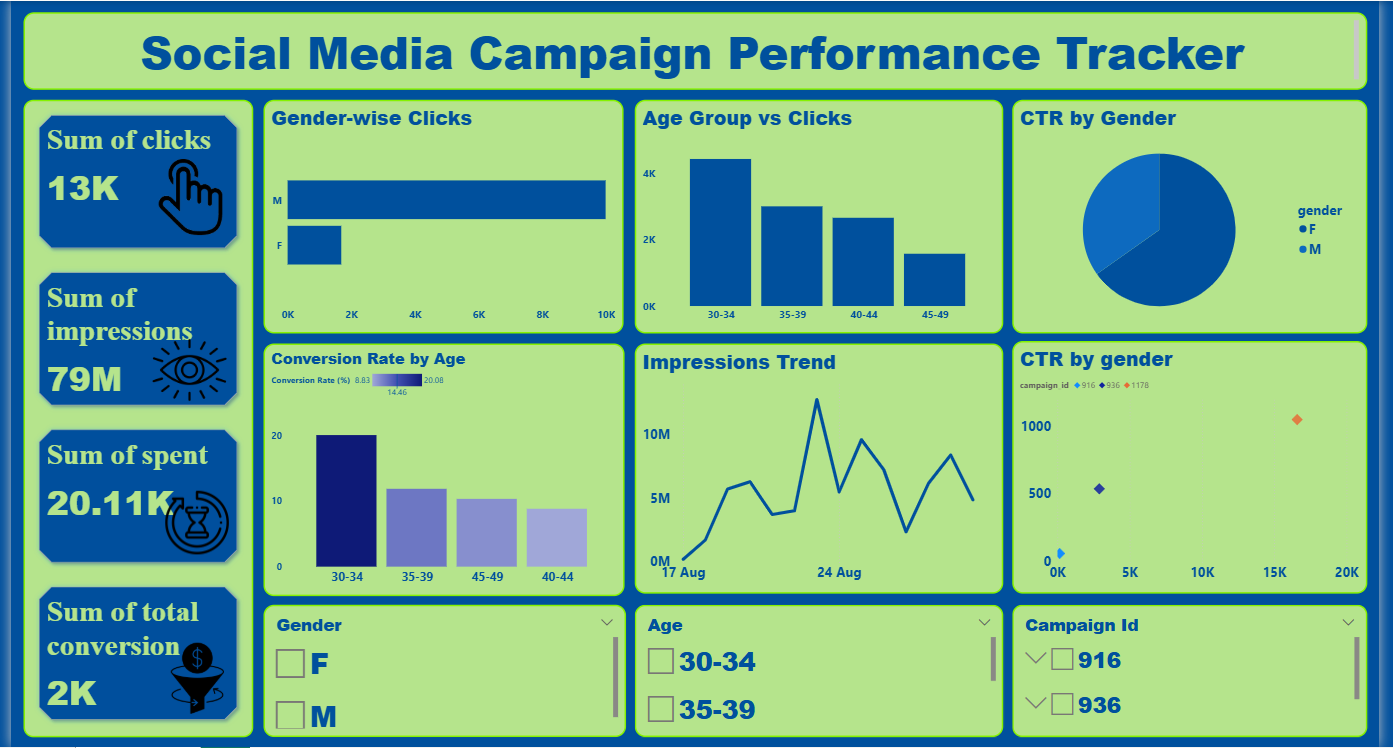

The dashboard page shown, as its layout file describes it:
{"tool":"powerbi","page":{"name":"Dashboard","canvas":[2200,1200],"ordinal":0},"visuals":[{"type":"textbox","box":[0,18.6,2200,123.8],"z":0},{"type":"cardVisual","fields":{"Data":["Sum(data.clicks)","Sum(data.impressions)","Sum(data.spent)","Sum(data.total_conversion)"]},"box":[0,142.7,389.3,1057.8],"z":1000},{"type":"clusteredBarChart","title":" Gender-wise Clicks","fields":{"Y":["Sum(data.clicks)"],"Category":["data.gender"]},"box":[391.3,142.7,593.1,411.7],"z":2000},{"type":"pieChart","title":"CTR by Gender","fields":{"Y":["data.CTR (%)"],"Category":["data.gender"]},"box":[1595.8,142.7,603.3,413.7],"z":3000},{"type":"clusteredColumnChart","title":"Age Group vs Clicks","fields":{"Category":["data.age"],"Y":["Sum(data.clicks)"]},"box":[986.4,142.7,609.4,411.7],"z":4000},{"type":"scatterChart","title":"CTR by gender","fields":{"X":["Sum(data.spent)"],"Y":["Sum(data.total_conversion)"],"Series":["data.campaign_id"]},"box":[1595.8,556.4,603.3,415.8],"z":5000},{"type":"clusteredColumnChart","title":"Conversion Rate by Age","fields":{"Y":["data.Conversion Rate (%)"],"Category":["data.age"]},"box":[389.3,550.3,597.1,421.9],"z":6000},{"type":"lineChart","title":"Impressions Trend","fields":{"Y":["Sum(data.impressions)"],"Category":["data.reporting_start.Variation.Date Hierarchy.Year","data.reporting_start.Variation.Date Hierarchy.Quarter","data.reporting_start.Variation.Date Hierarchy.Month","data.reporting_start.Variation.Date Hierarchy.Day"]},"box":[984.4,554.4,611.4,417.8],"z":7000},{"type":"image","box":[216,248.6,146.7,132.5],"z":8000},{"type":"image","box":[242.5,782.6,112.1,114.1],"z":9000},{"type":"image","box":[226.2,1027.2,144.7,124.3],"z":10000},{"type":"image","box":[222.1,515.6,132.5,156.9],"z":11000},{"type":"image","box":[599.2,1031.3,118.2,120.2],"z":12000},{"type":"image","box":[821.3,1025.1,120.2,126.4],"z":13000},{"type":"slicer","fields":{"Values":["data.gender"]},"box":[391.3,972.2,597.1,228.3],"z":14000},{"type":"slicer","fields":{"Values":["data.age"]},"box":[988.5,972.2,607.3,228.3],"z":15000},{"type":"slicer","fields":{"Values":["data.campaign_id","data.fb_campaign_id"]},"box":[1595.8,972.2,603.3,228.3],"z":16000}]}

Visuals, with their boxes in screenshot pixels (x1, y1, x2, y2), scaled from the page's 2200x1200 canvas onto the 1393x748 screenshot:
textbox: [0, 12, 1392, 89]
cardVisual - Sum(data.clicks) x Sum(data.impressions): [0, 89, 246, 747]
" Gender-wise Clicks" clusteredBarChart: [248, 89, 623, 346]
"CTR by Gender" pieChart: [1010, 89, 1392, 347]
"Age Group vs Clicks" clusteredColumnChart: [625, 89, 1010, 346]
"CTR by gender" scatterChart: [1010, 347, 1392, 606]
"Conversion Rate by Age" clusteredColumnChart: [246, 343, 625, 606]
"Impressions Trend" lineChart: [623, 346, 1010, 606]
image: [137, 155, 230, 238]
image: [154, 488, 225, 559]
image: [143, 640, 235, 718]
image: [141, 321, 225, 419]
image: [379, 643, 454, 718]
image: [520, 639, 596, 718]
slicer - data.gender: [248, 606, 626, 747]
slicer - data.age: [626, 606, 1010, 747]
slicer - data.campaign_id x data.fb_campaign_id: [1010, 606, 1392, 747]
